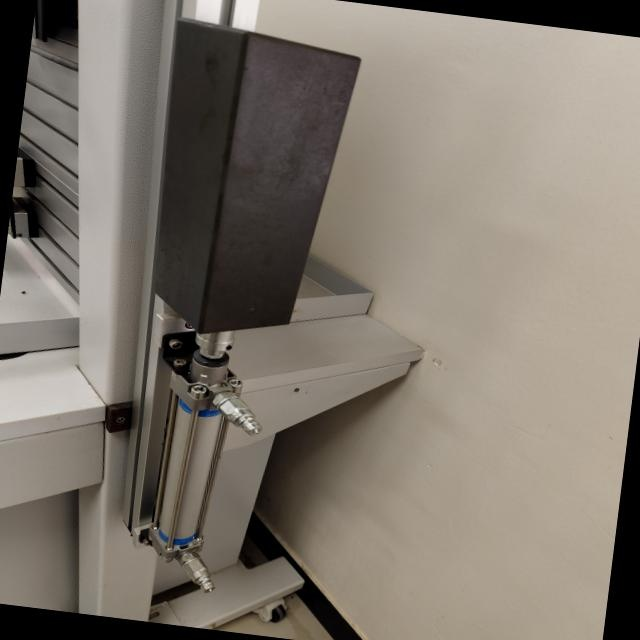load: (47, 0, 390, 619)
